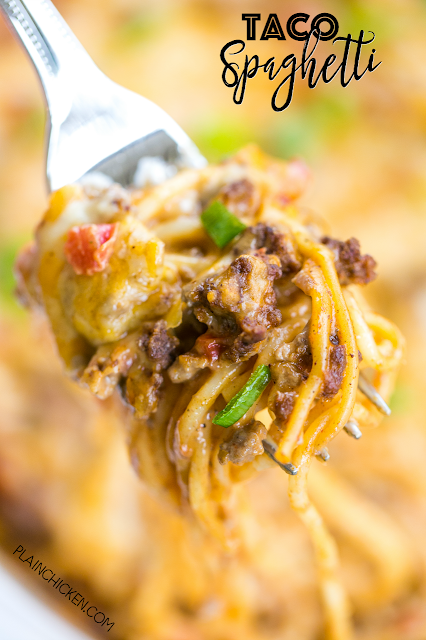plain spaghetti: (85, 263, 391, 542)
